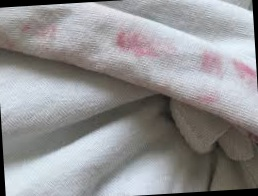lipstick: (114, 35, 176, 59), (11, 25, 56, 42), (199, 52, 227, 77), (233, 57, 256, 82), (186, 95, 224, 108)
